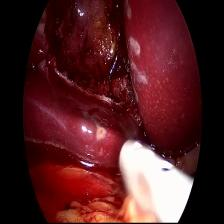Irrigator: (116, 133, 195, 222)
